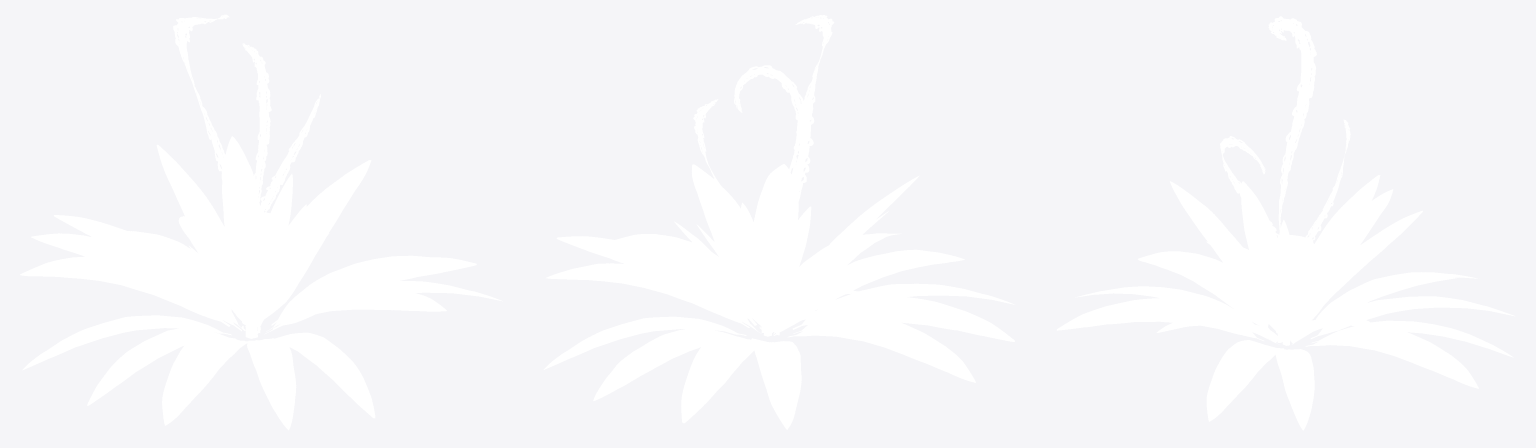
3 views of the same model, side by side, from view 1: azimuth 30°, elevation 25°; view 2: azimuth 150°, elevation 25°; view 3: azimuth 270°, elevation 25° (orthographic). The views are drawn at different scales.
Parts seen in each view (by area): view 1: SM_SW_SwampFern_03_LOD0; view 2: SM_SW_SwampFern_03_LOD0; view 3: SM_SW_SwampFern_03_LOD0.
Boxes of the visible parts, box(x1,y1,x2,y2) form: SM_SW_SwampFern_03_LOD0: box(20, 14, 502, 430); SM_SW_SwampFern_03_LOD0: box(543, 15, 1014, 429); SM_SW_SwampFern_03_LOD0: box(1057, 16, 1514, 430).
Bounding box in the file's own units: 1.35 × 0.9684 × 1.36.
1 material, 1 textured.
